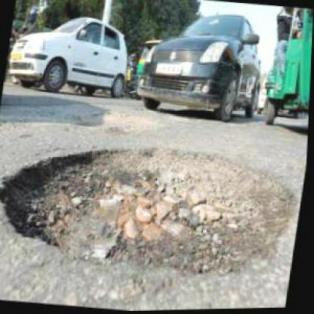Hueco: (0, 125, 309, 292), (89, 106, 159, 139)
